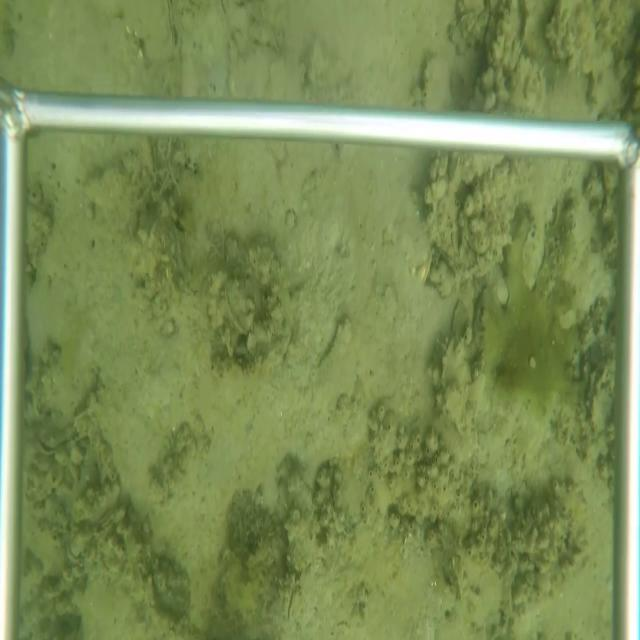Oyster-Closed: (221, 275, 259, 338)
Oyster-Indeterminate: (420, 55, 458, 109)
Oyster-Open: (584, 351, 616, 443), (33, 421, 77, 460)
